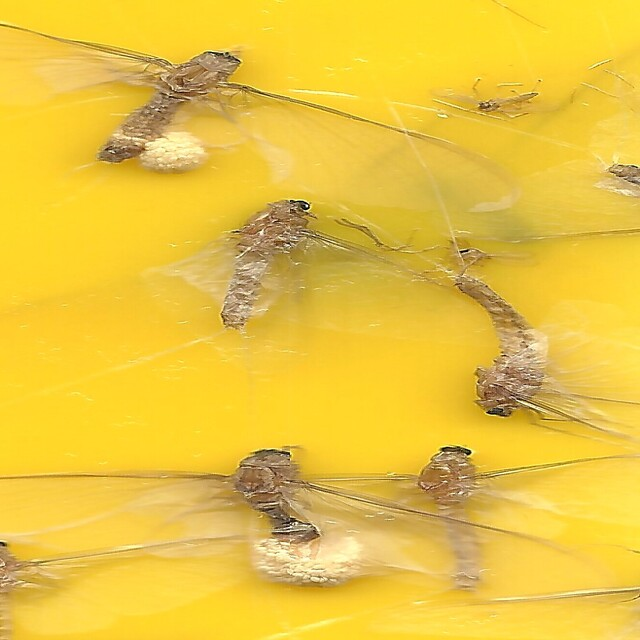Ephemeroptera: (97, 48, 239, 165), (217, 193, 311, 332), (452, 277, 543, 419), (420, 440, 488, 592), (226, 448, 318, 547)
